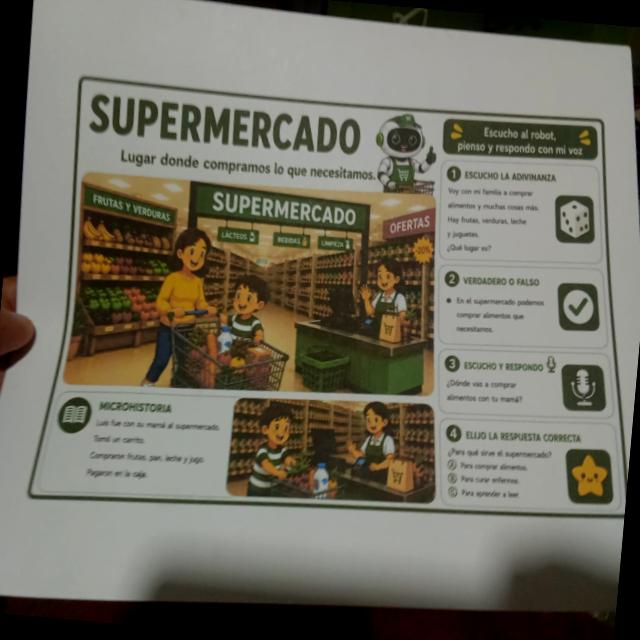supermercado: (21, 65, 640, 556)
